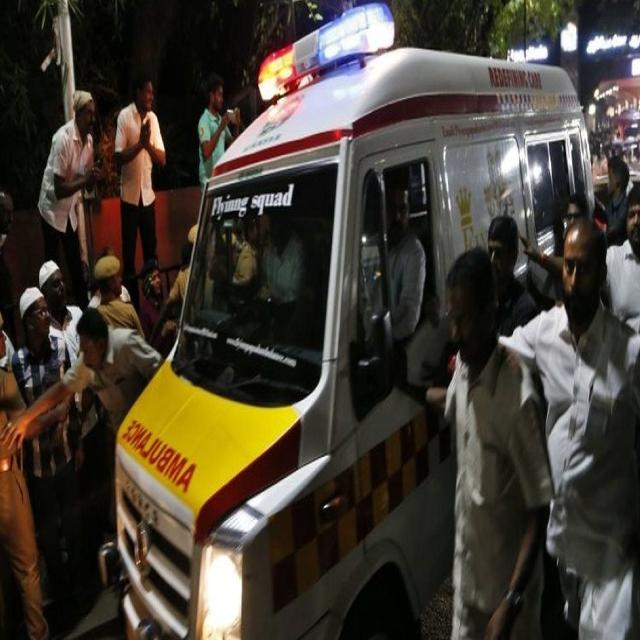emergency: (115, 4, 594, 638)
